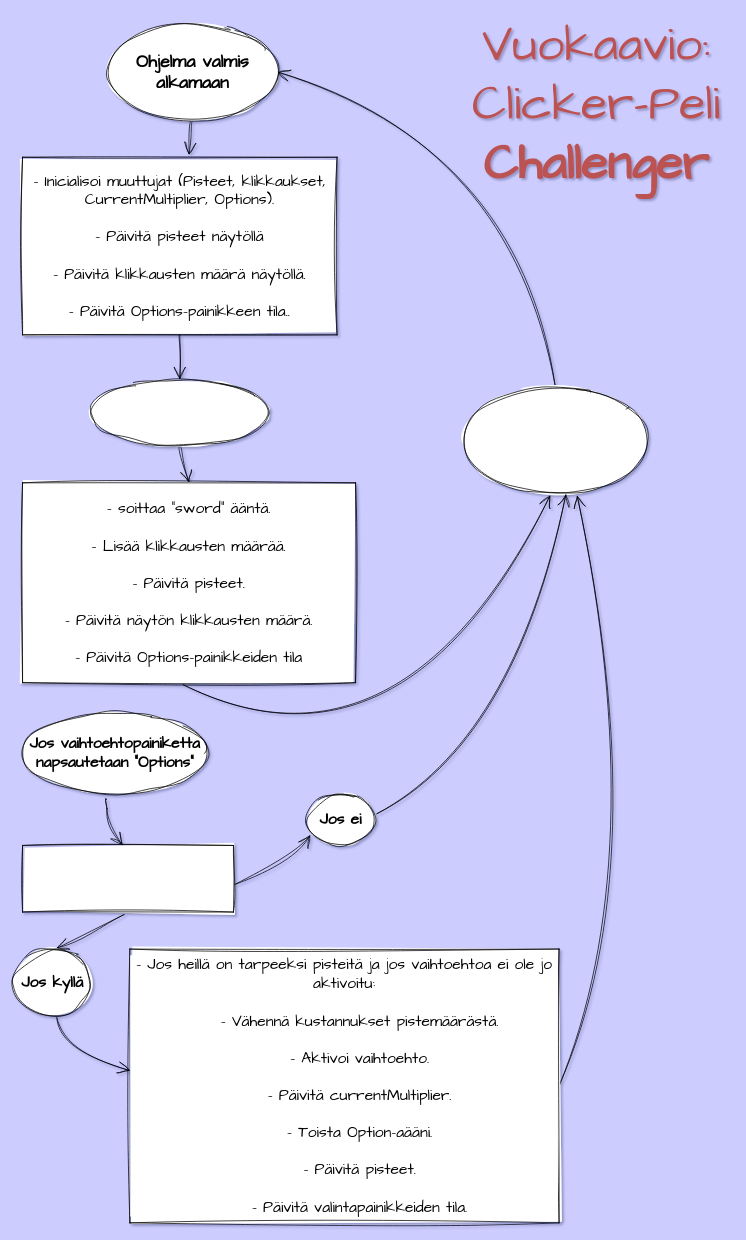
Image size: 746x1240. Some labels were removed from this diagram. Here are the shapes that lost their labels. From the top down, the centre of each, then its label:
pixel 179 412: Jos "Klikkaa minua" -painiketta klikataan
pixel 555 440: Ohjelman loppu
pixel 127 878: - Tarkista, onko pelaajalla tarpeeksi pisteitä option ostamiseen.
